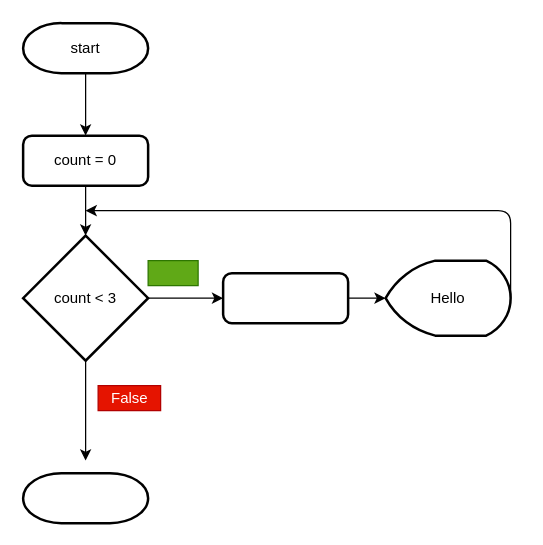
Image size: 543x545. Some labels were removed from this diagram. Here are the shapes that lost their labels. From the top down, the centre of each, then its label:
At point (172, 272): "True".
At point (285, 297): "count = count +1".
At point (85, 497): "End".
